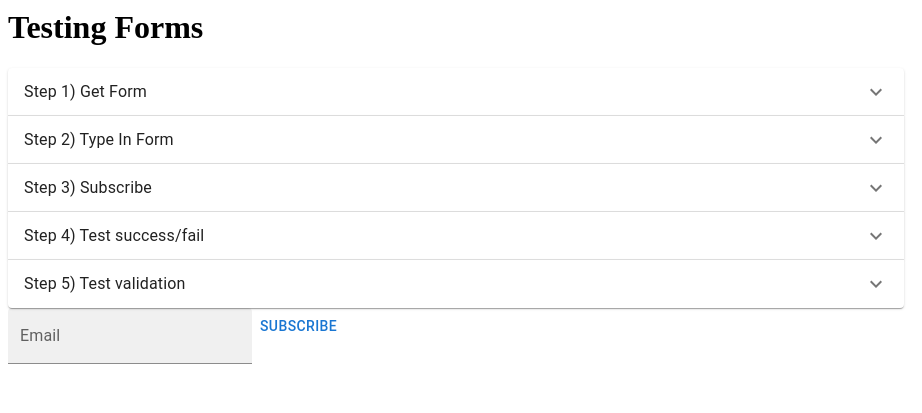
test form page › test form
This screenshot has width=922, height=413.
Type "test@gmail.com" into the element with test id "form-input" at (130, 336), box [8, 308, 252, 364]
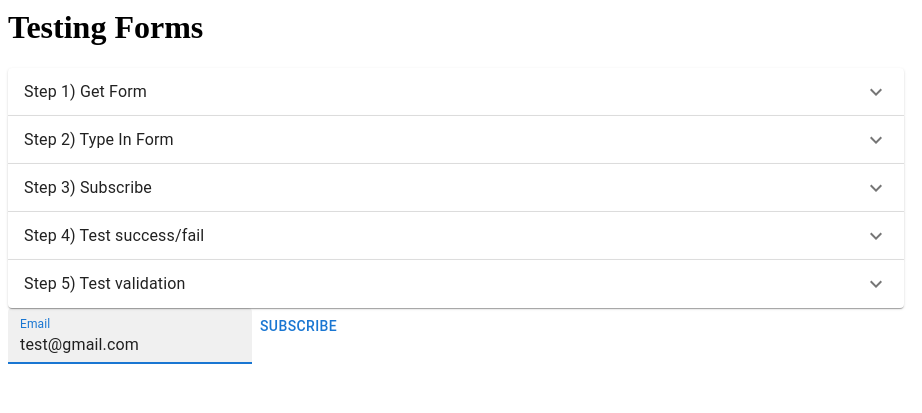
Click the button "Subscribe" at (299, 327), box [252, 308, 345, 345]
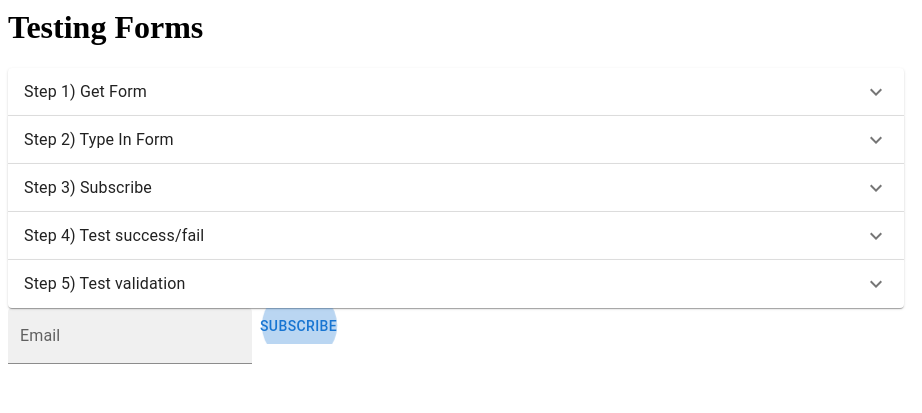
Type "this is not an email" into the element with test id "form-input" at (130, 336), box [8, 308, 252, 364]
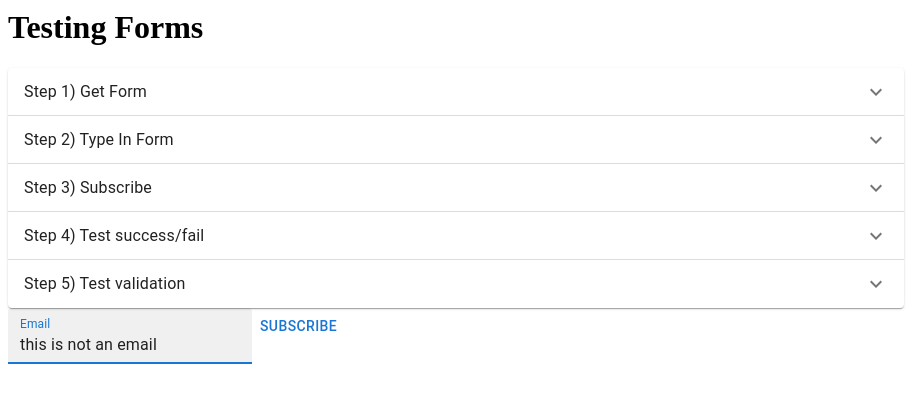
Click the button "Subscribe" at (299, 327), box [252, 308, 345, 345]
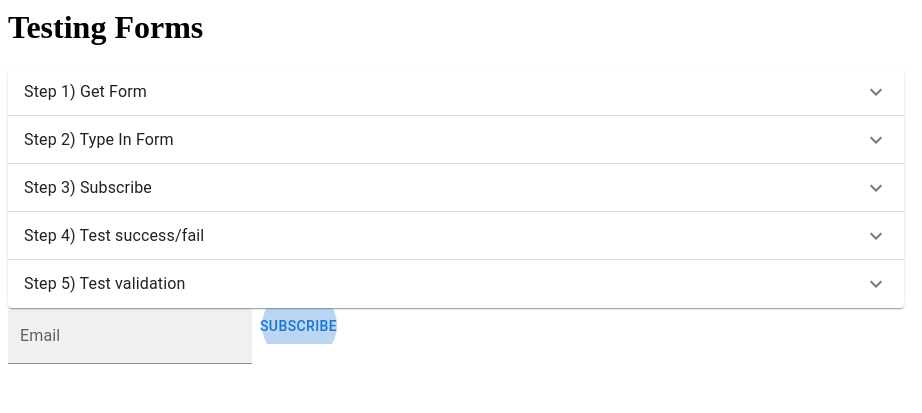
Click the button "Subscribe" at (299, 327), box [252, 308, 345, 345]
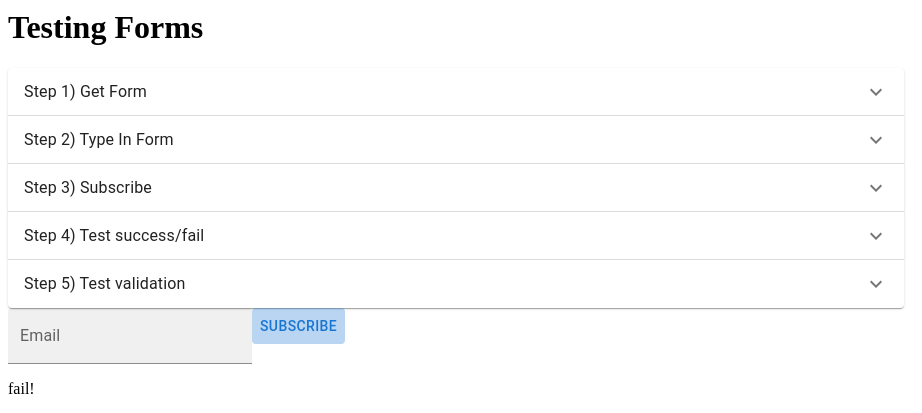
Check: the text "fail!" is shown, box [8, 380, 35, 397]
